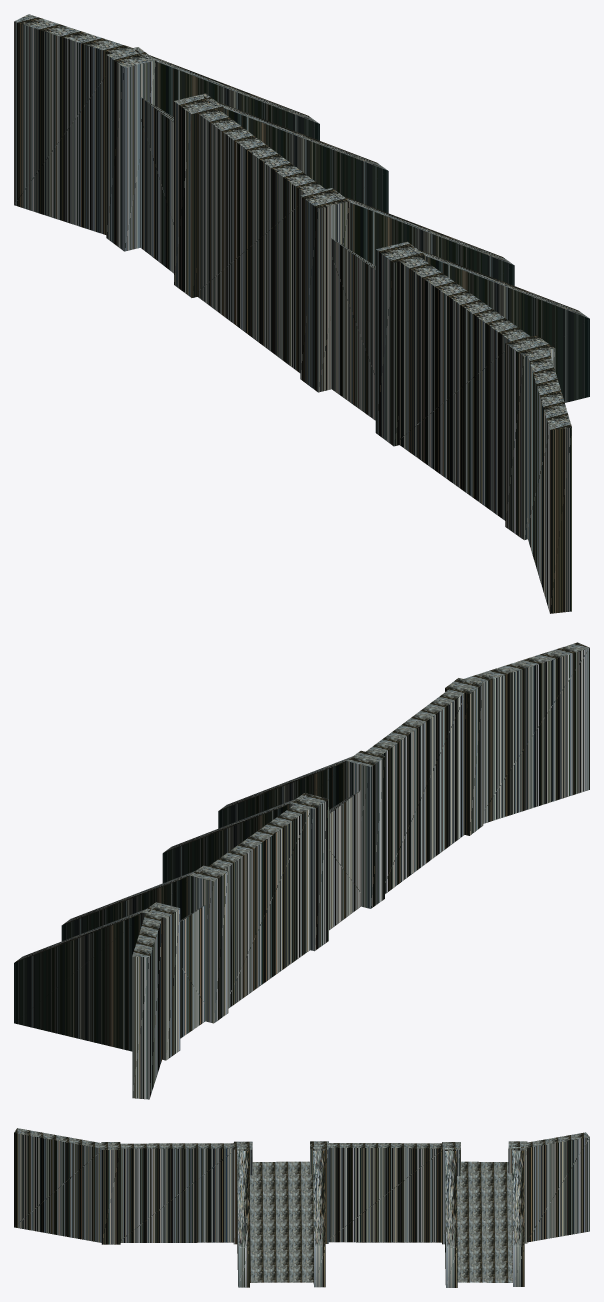
Rendered from hr_mst1.glb.
3 views of the same model, one above another, from view 1: azimuth 30°, elevation 25°; view 2: azimuth 150°, elevation 25°; view 3: azimuth 270°, elevation 25° (orthographic). The views are drawn at different scales.
Parts seen in each view (by area): view 1: hr_mst1; view 2: hr_mst1; view 3: hr_mst1.
Boxes of the visible parts, x1,y1,x2,y2 form: hr_mst1: (14,14,589,613); hr_mst1: (14,642,589,1099); hr_mst1: (14,1128,589,1287).
Size of the model in its own units: 6.45 by 4.52 by 24.51.
Materials: 1 (1 with a texture image).
